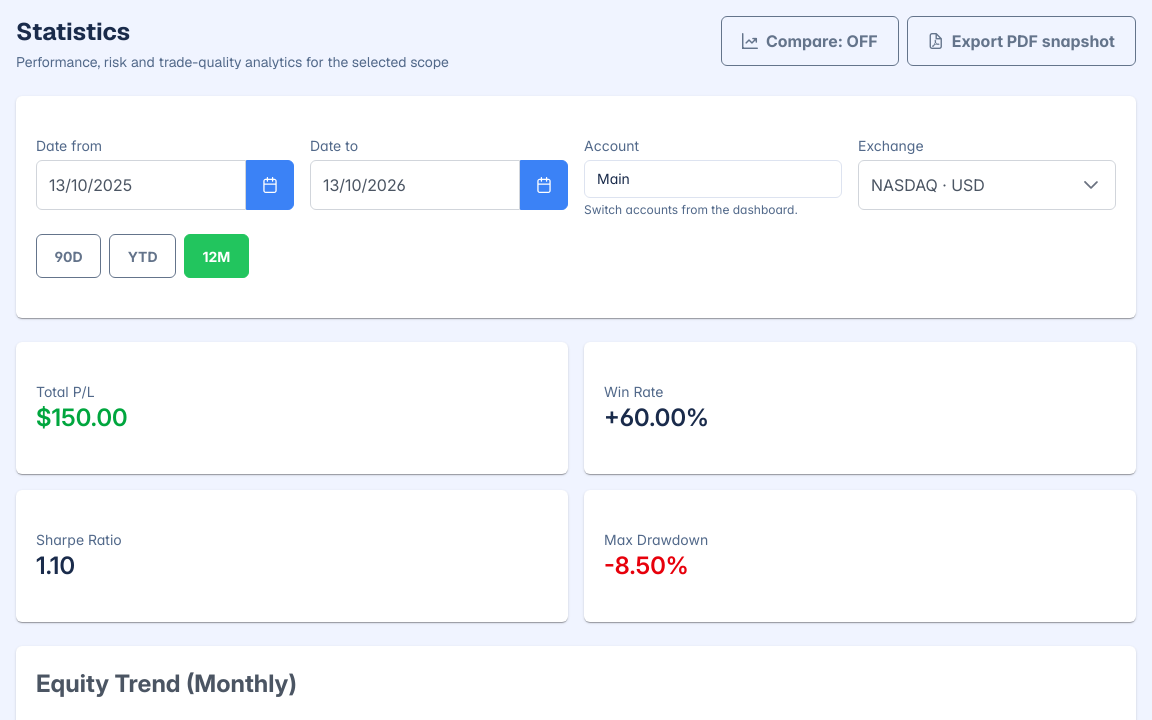
StatisticsView › toggles compare mode and shows comparison period helper text
Click the button "Compare: OFF" at (810, 41), box [721, 16, 899, 66]
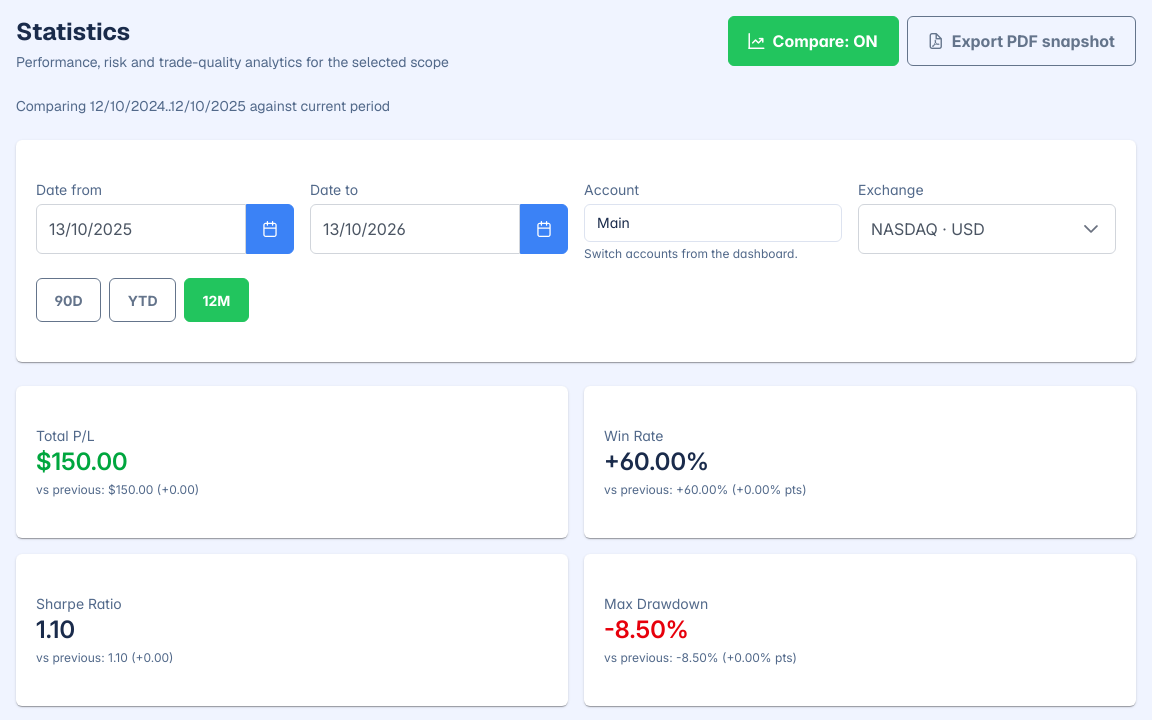
Check: the button "Compare: ON" is shown, box [728, 16, 899, 66]
Check: the text "Comparing 12/10/2024..12/10/2025 against current period" is shown, box [16, 97, 390, 115]
